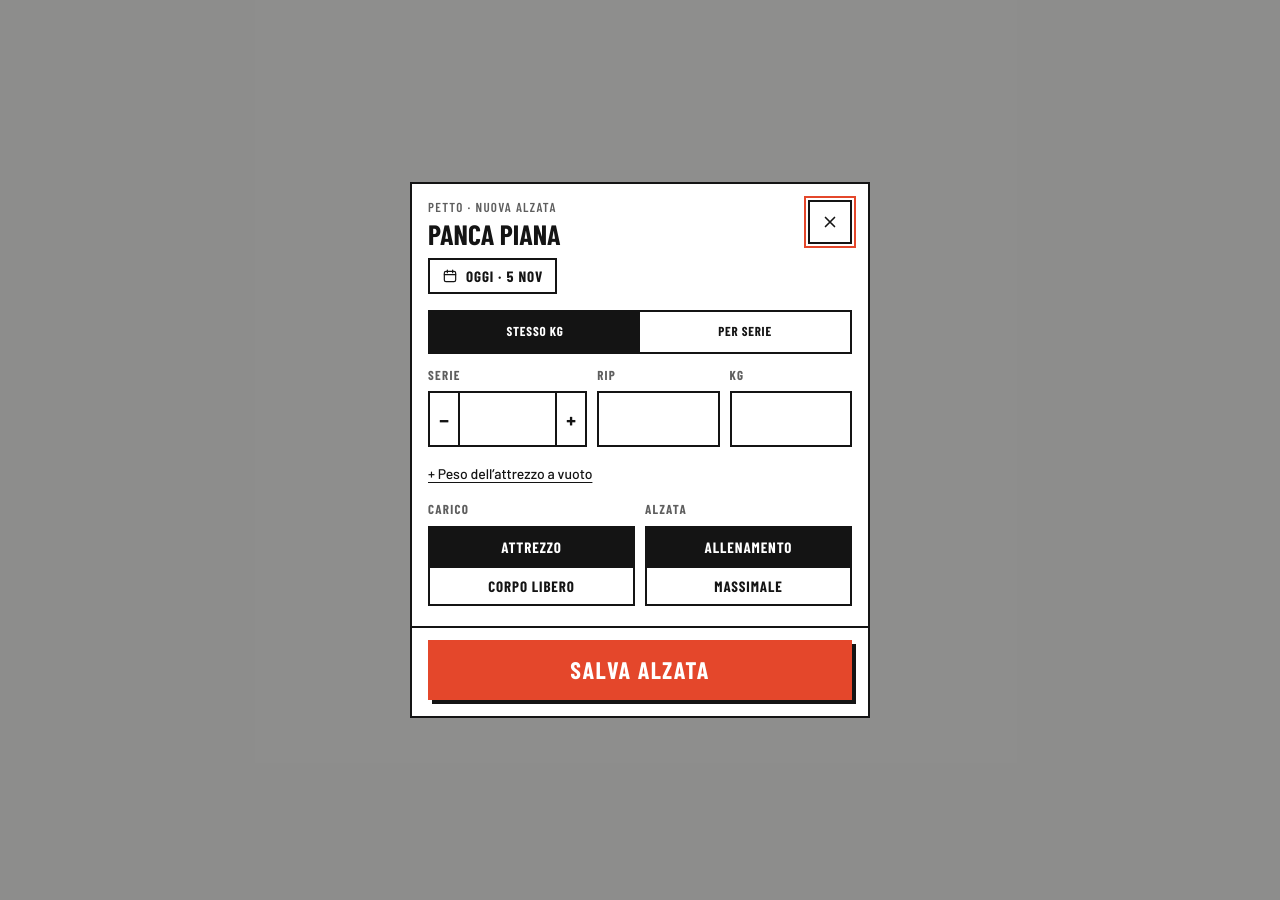
Test: nuova alzata, serie per serie › passando a «Per serie» con «Serie» vuoto, il campo prende le righe
Click the button "Per serie" at (745, 332), box x1=640 y1=312 x2=850 y2=352
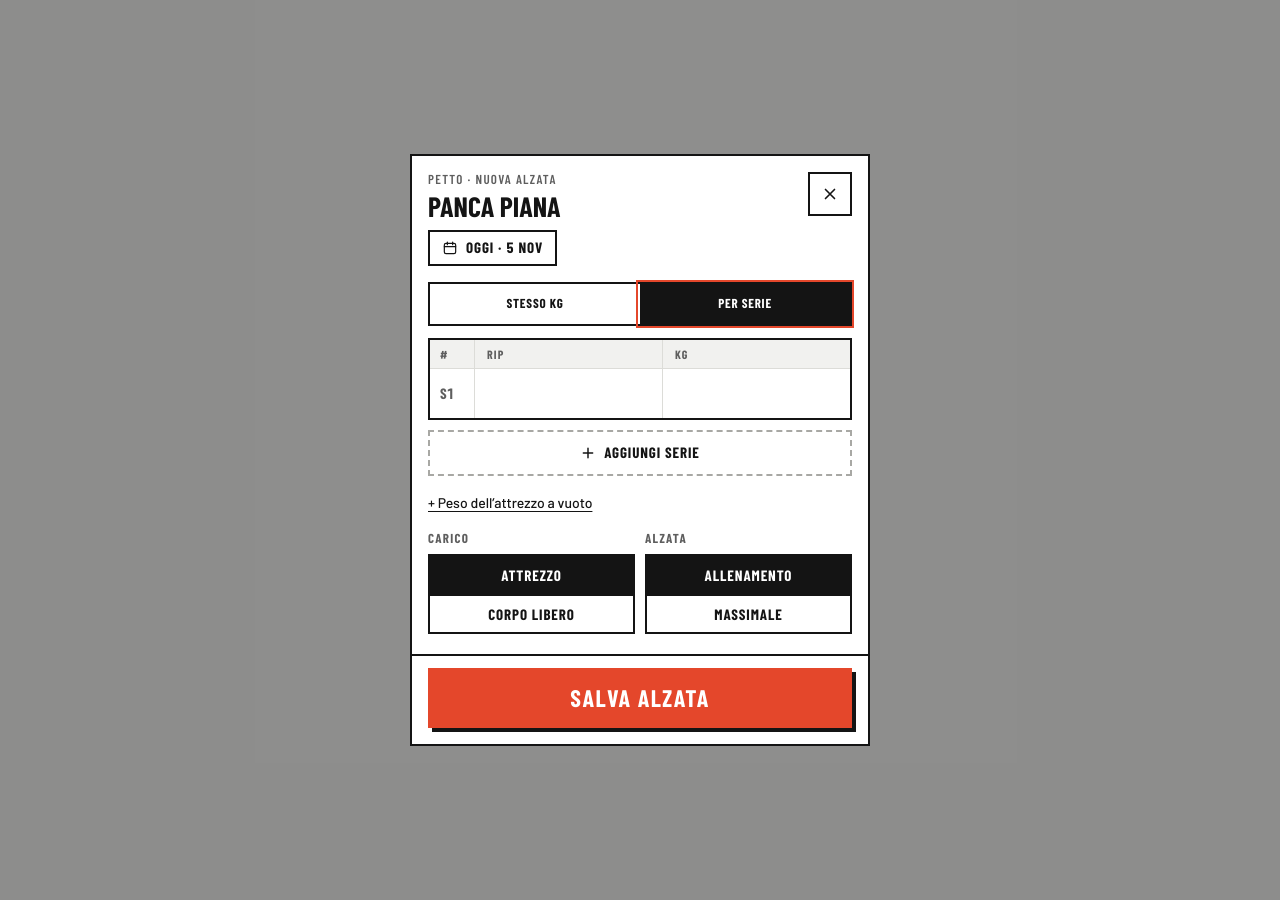
Click the button "Stesso kg" at (535, 304), box x1=430 y1=284 x2=640 y2=324
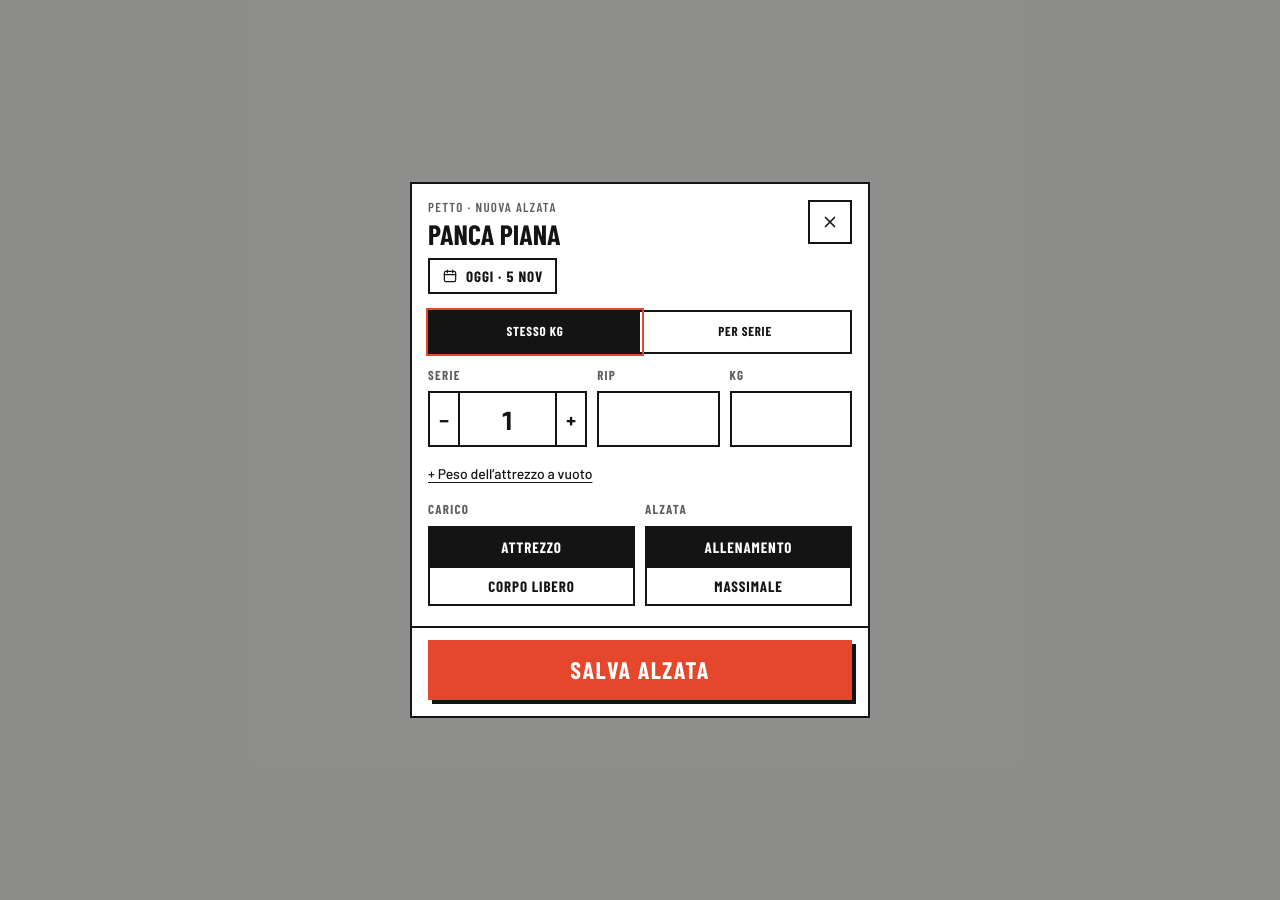
Check: the field named "Serie" holds "1", box x1=460 y1=393 x2=555 y2=445
